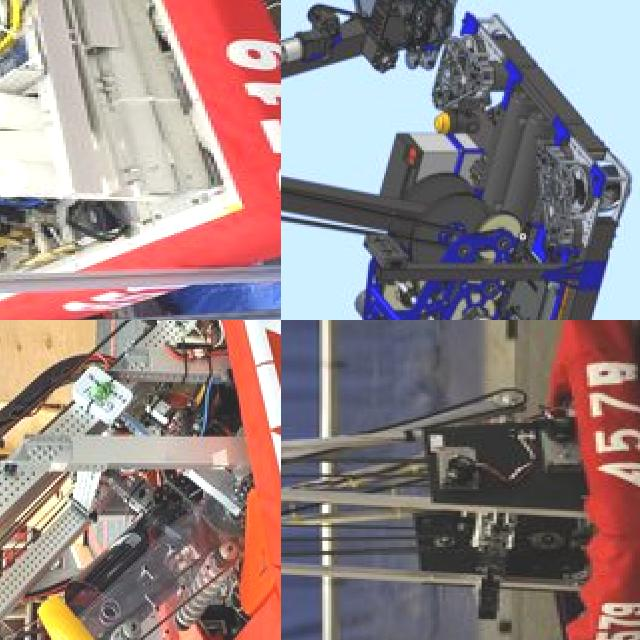FRC-Robots: (281, 0, 640, 320), (281, 320, 640, 640), (0, 320, 281, 640), (0, 0, 281, 317)
